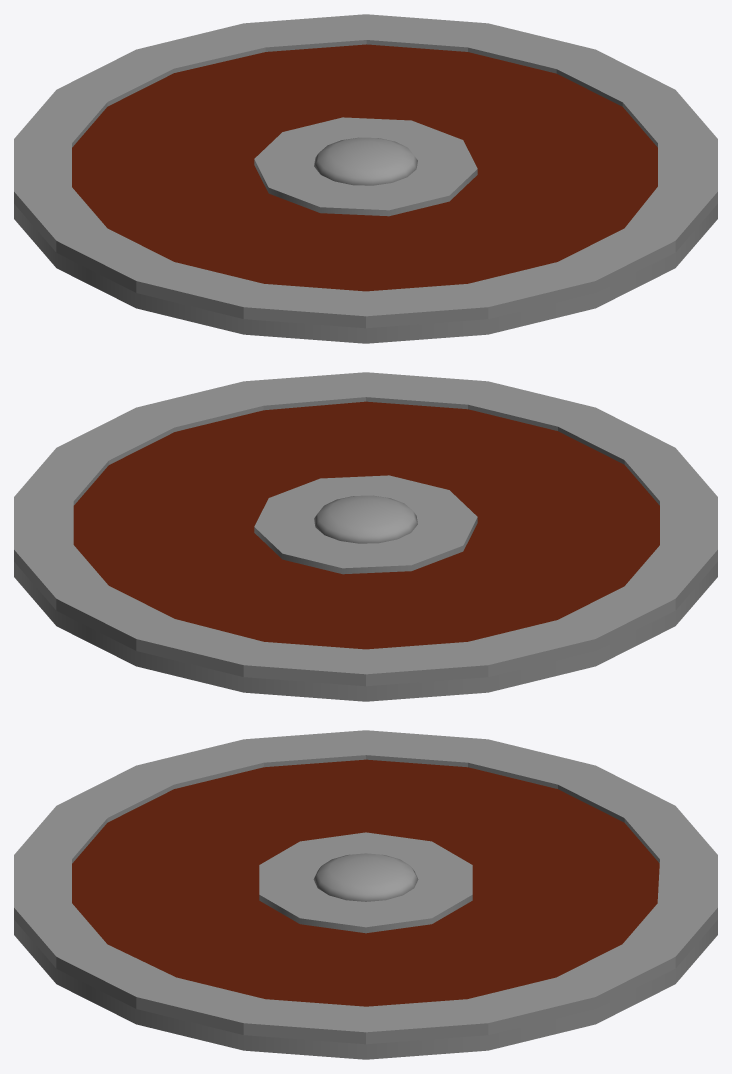
Rendered from woodenshield.FBX.
3 renders of one model, top to bottom at view 1: azimuth 30°, elevation 25°; view 2: azimuth 150°, elevation 25°; view 3: azimuth 270°, elevation 25°, orthographic.
Visible parts, largest first — view 1: Cylinder001; view 2: Cylinder001; view 3: Cylinder001.
Part boxes in pixels (bbox=[...]): Cylinder001: bbox=[14, 14, 717, 343]; Cylinder001: bbox=[14, 372, 717, 701]; Cylinder001: bbox=[14, 730, 717, 1059].
Size of the model in its own units: 1.87 by 1.84 by 0.1269.
